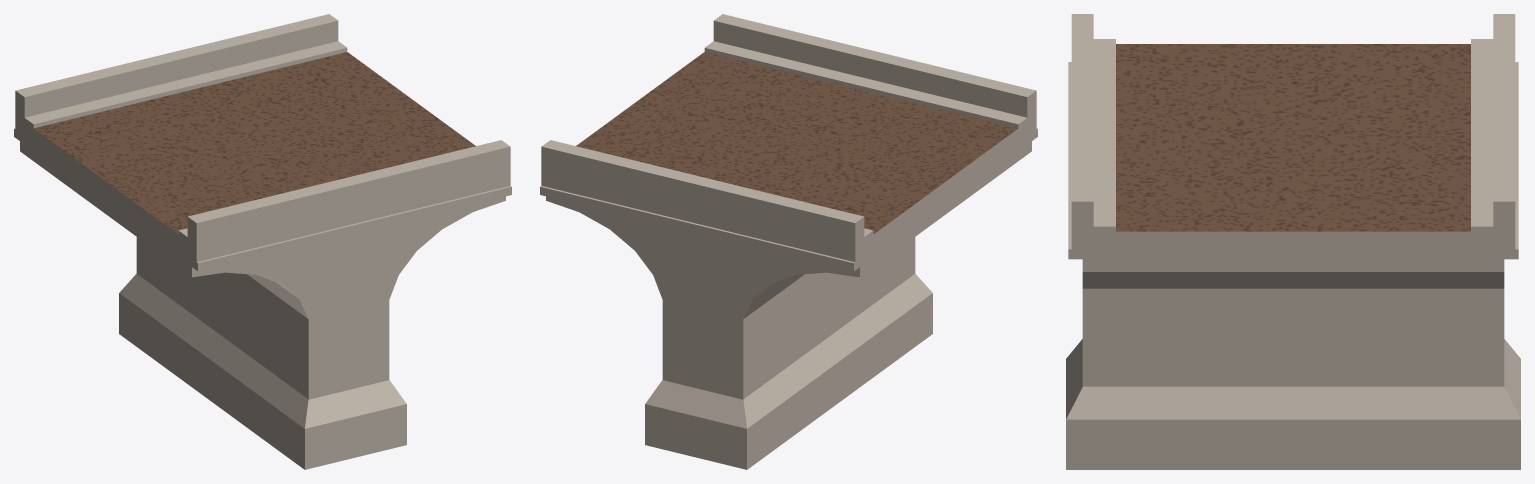
File: SPW_Medieval_Bridge_01.glb
The picture shows the model from 3 angles, left to right: view 1: azimuth 30°, elevation 25°; view 2: azimuth 150°, elevation 25°; view 3: azimuth 270°, elevation 25°; orthographic projection. The views are drawn at different scales.
Visible parts, largest first — view 1: SPW_Medieval_Bridge_01; view 2: SPW_Medieval_Bridge_01; view 3: SPW_Medieval_Bridge_01.
Boxes of the visible parts, x1,y1,x2,y2 form: SPW_Medieval_Bridge_01: (14, 14, 511, 469); SPW_Medieval_Bridge_01: (540, 14, 1037, 469); SPW_Medieval_Bridge_01: (1066, 14, 1520, 469).
Size of the model in its own units: 5 by 4.13 by 5.13.
Materials: 1 (1 with a texture image).
